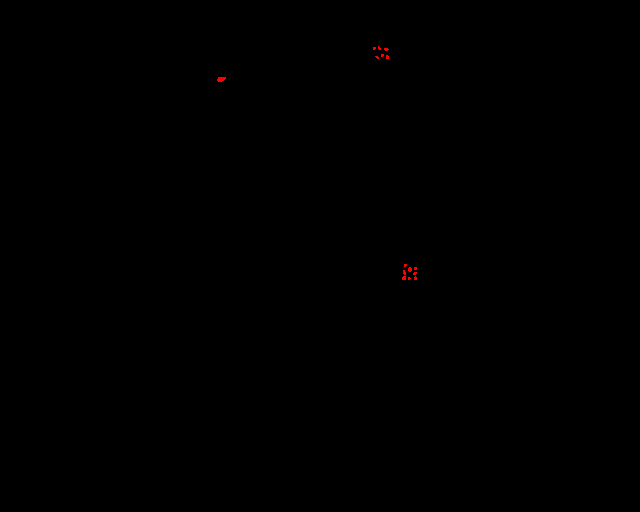Target: (217, 77, 226, 82), (408, 267, 412, 272), (402, 276, 406, 280), (384, 48, 389, 51), (403, 270, 406, 275), (378, 46, 381, 50), (386, 55, 389, 59), (375, 56, 379, 59), (413, 272, 417, 275), (414, 276, 417, 280), (373, 47, 376, 50), (381, 54, 384, 57), (404, 264, 407, 267), (414, 267, 417, 270), (408, 277, 411, 280)
